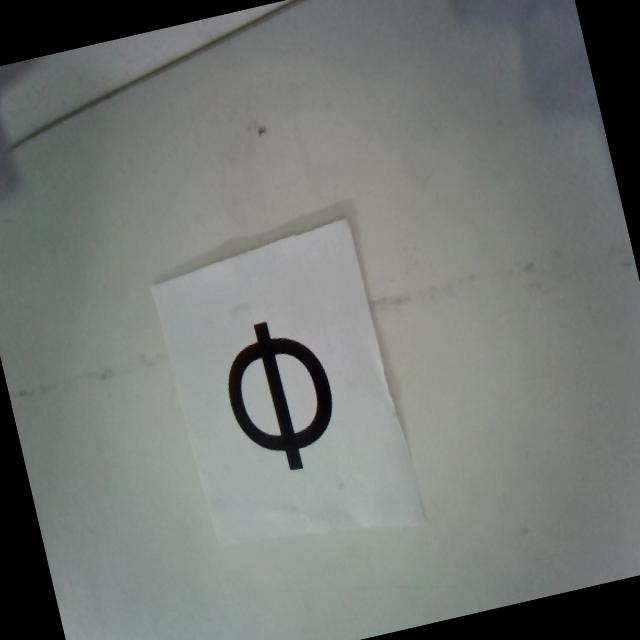F: (214, 311, 346, 476)
